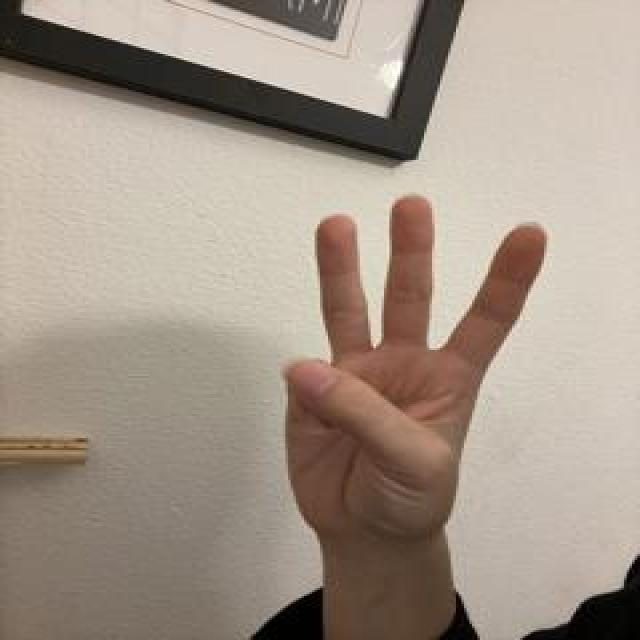W: (274, 189, 554, 543)
